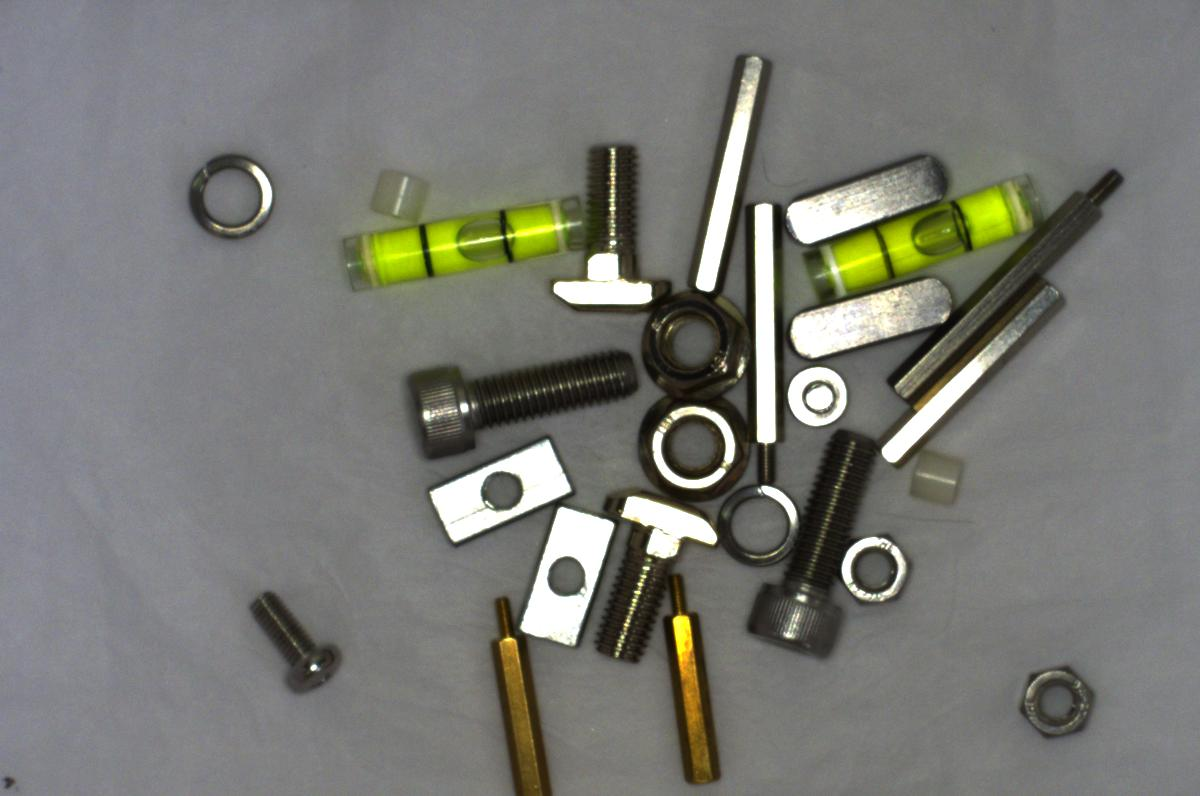Double hexagonal column: (870, 283, 1075, 474), (676, 39, 776, 306)
Flange nut: (637, 285, 753, 401)
Hexagon nut: (1006, 648, 1114, 760), (834, 528, 925, 617)
Hexagon pillar: (484, 583, 564, 795), (660, 567, 726, 786)
Hexagon screw: (723, 424, 894, 665), (393, 345, 653, 465)
Hexagonal steel column: (891, 145, 1129, 403), (742, 203, 793, 494)
Horizontal bubble: (805, 171, 1055, 300), (335, 192, 585, 300)
Keybar: (779, 133, 962, 251), (787, 272, 961, 354)
Plastic cushion pillar: (357, 162, 441, 227), (905, 448, 971, 506)
Rectangular nut: (421, 428, 576, 546), (517, 503, 612, 648)
Round head screw: (251, 578, 344, 698), (785, 358, 846, 430)
Spring washer: (175, 142, 284, 254), (708, 482, 808, 572)
T-shaped screw: (576, 481, 726, 660), (538, 140, 683, 319)
